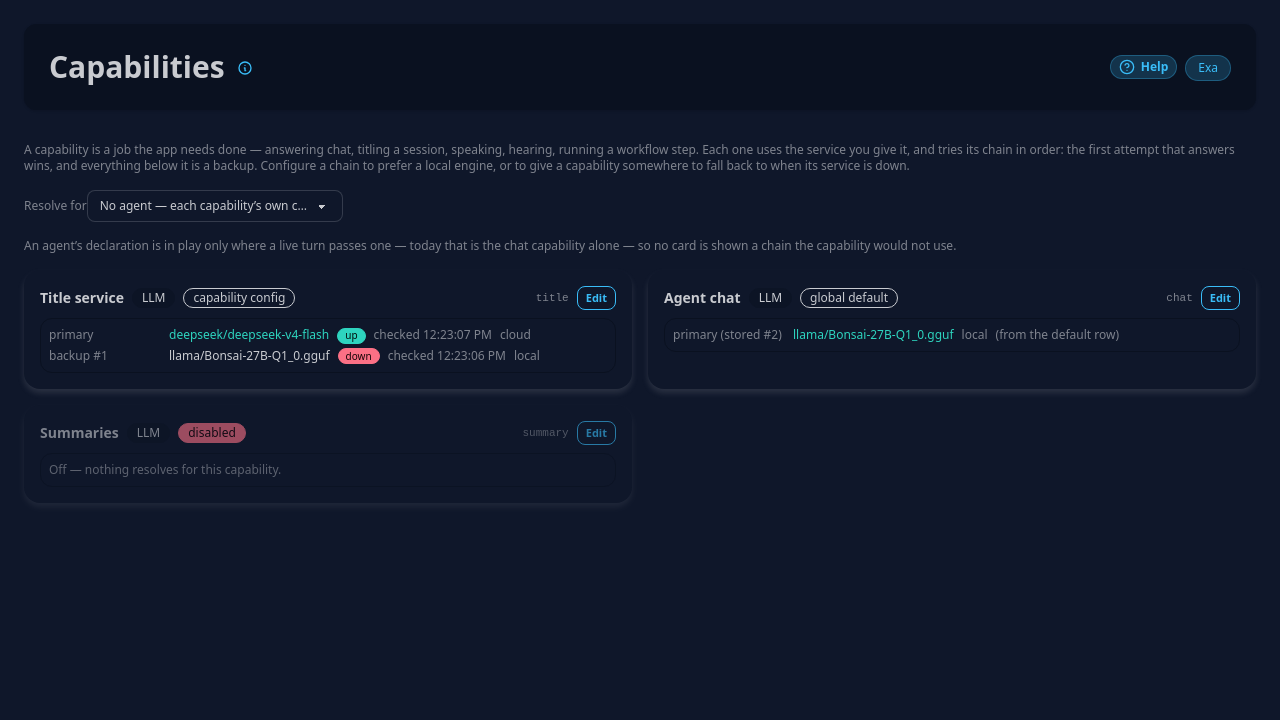
Test: ProviderCapabilities (the editor) › opens on the STORED chain, not on the resolution
Click the button "Edit" in the row of "capability config": (596, 298) [577,286,616,310]
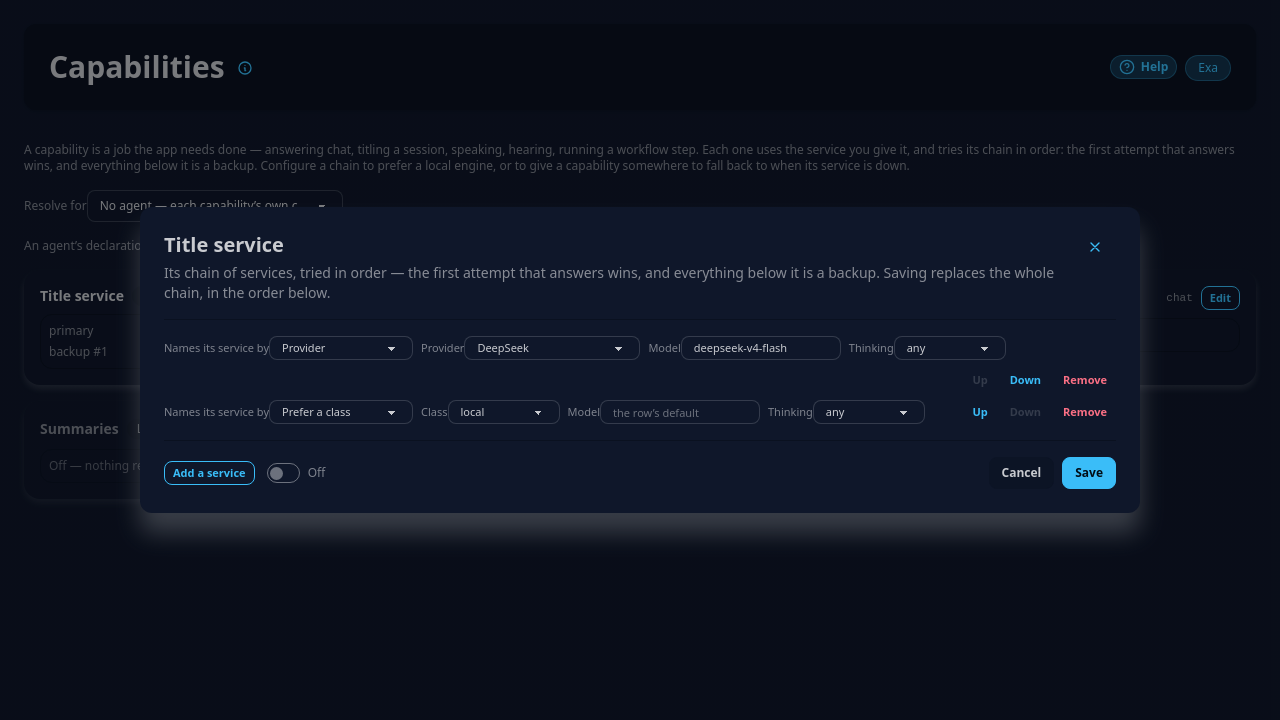
Now the dropdown named "Attempt 1: provider" is shown, box [464,336,640,360]
Now the dropdown named "Attempt 2: class" shows "local", box [448,400,560,424]
